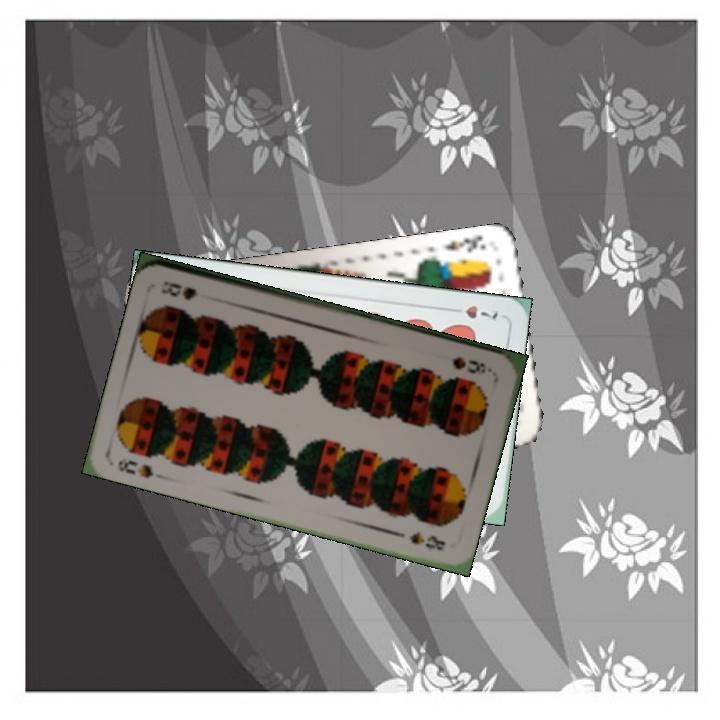EK: (440, 232, 489, 255)
H7: (444, 301, 501, 323)
S8: (448, 352, 495, 378), (113, 456, 156, 481)
